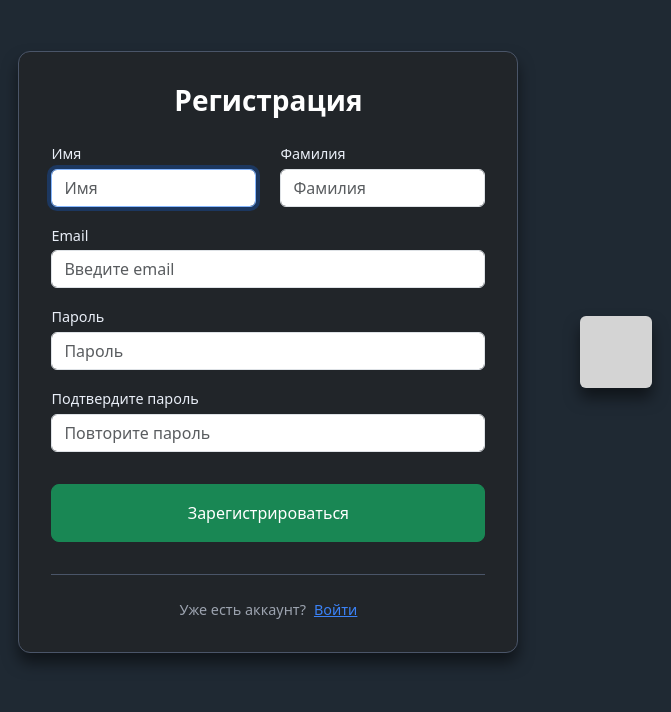
показывает ошибку на пустые поля
The width and height of the screenshot is (671, 712).
Click the button "Зарегистрироваться".
click(268, 513)  # box [51,484,485,542]
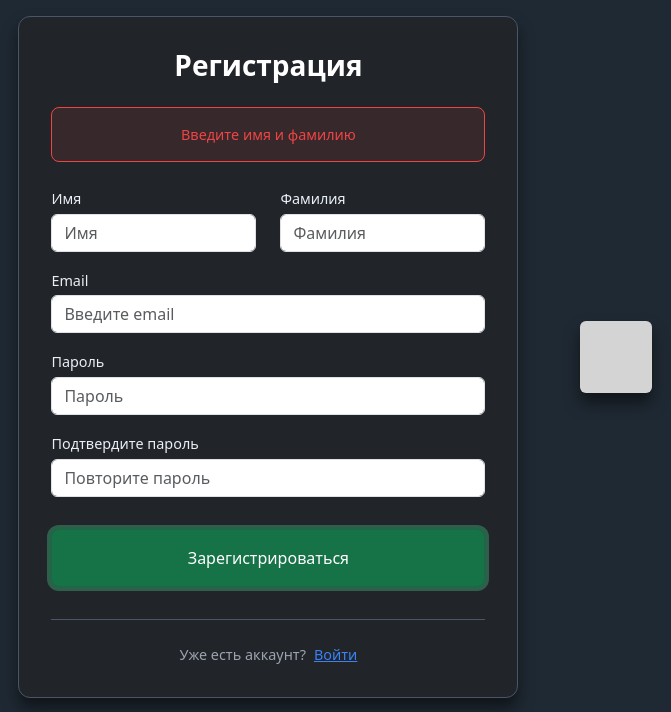
Now the text "Введите имя и фамилию" is shown, box [51,107,485,162]
